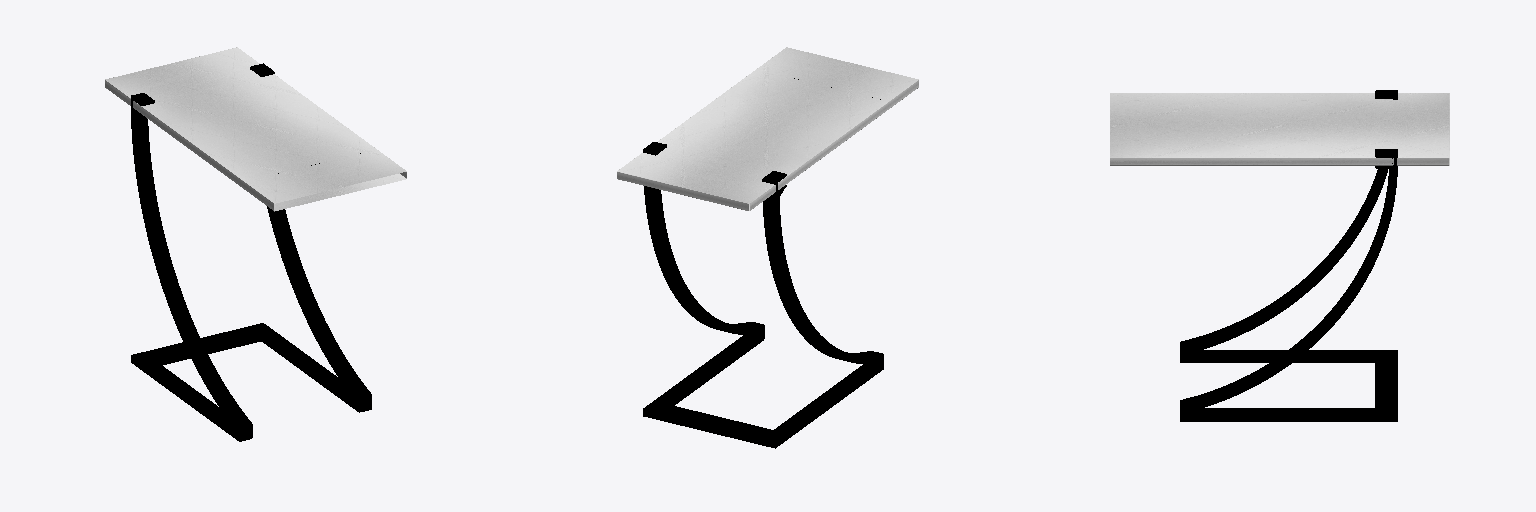
The picture shows the model from 3 angles: view 1: azimuth 30°, elevation 25°; view 2: azimuth 150°, elevation 25°; view 3: azimuth 270°, elevation 25°; orthographic projection.
Visible parts, largest first — view 1: EndTable_Square_MetalGlass_004polySurface1, EndTable_Square_MetalGlass_004polySurface3; view 2: EndTable_Square_MetalGlass_004polySurface1, EndTable_Square_MetalGlass_004polySurface3; view 3: EndTable_Square_MetalGlass_004polySurface1, EndTable_Square_MetalGlass_004polySurface3.
Part boxes in pixels (left/top/right/bottom): EndTable_Square_MetalGlass_004polySurface1: left=105, top=47, right=406, bottom=211; EndTable_Square_MetalGlass_004polySurface3: left=131, top=63, right=371, bottom=441; EndTable_Square_MetalGlass_004polySurface1: left=617, top=47, right=918, bottom=210; EndTable_Square_MetalGlass_004polySurface3: left=643, top=78, right=883, bottom=448; EndTable_Square_MetalGlass_004polySurface1: left=1110, top=93, right=1449, bottom=165; EndTable_Square_MetalGlass_004polySurface3: left=1180, top=90, right=1397, bottom=421.
Size of the model in its own units: 0.2494 by 0.479 by 0.5523.
3 materials, 1 textured.